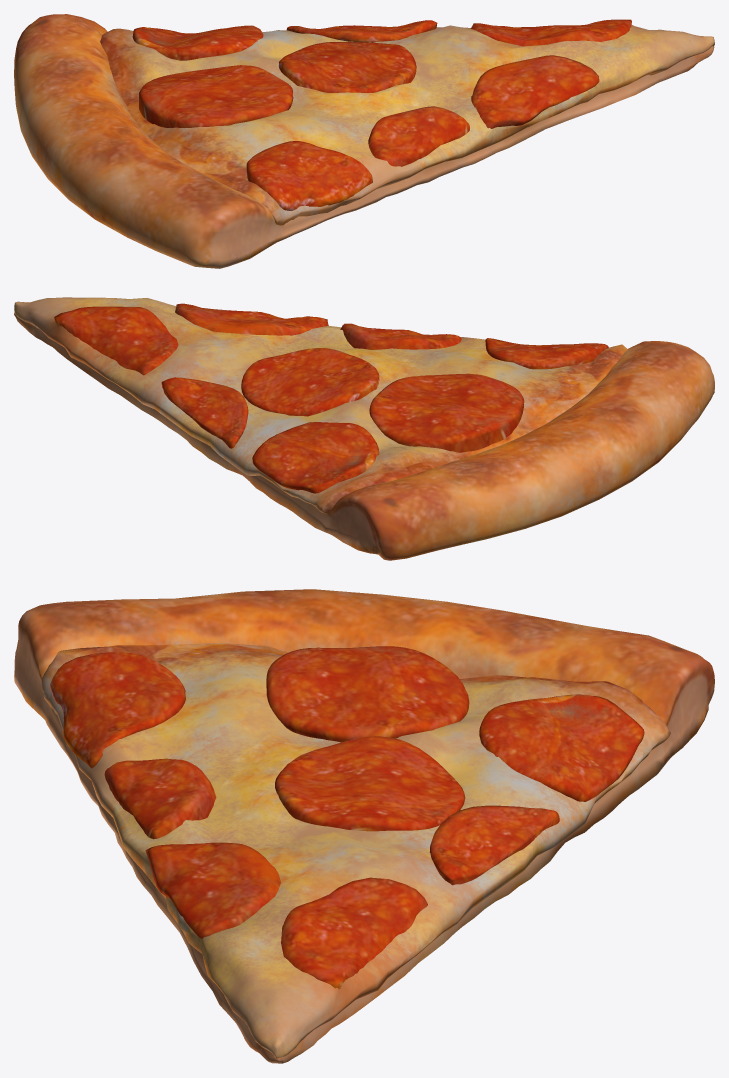
File: pizza.glb
The picture shows the model from 3 angles, top to bottom: view 1: azimuth 30°, elevation 25°; view 2: azimuth 150°, elevation 25°; view 3: azimuth 270°, elevation 25°; orthographic projection. The views are drawn at different scales.
Parts seen in each view (by area): view 1: slice_of_pizza.1_1; view 2: slice_of_pizza.1_1; view 3: slice_of_pizza.1_1.
Boxes of the visible parts, box(x1,y1,x2,y2) form: slice_of_pizza.1_1: box(14, 14, 714, 268); slice_of_pizza.1_1: box(14, 297, 714, 560); slice_of_pizza.1_1: box(14, 589, 714, 1063).
Size of the model in its own units: 0.0244 by 0.00234 by 0.017.
Materials: 1 (1 with a texture image).
